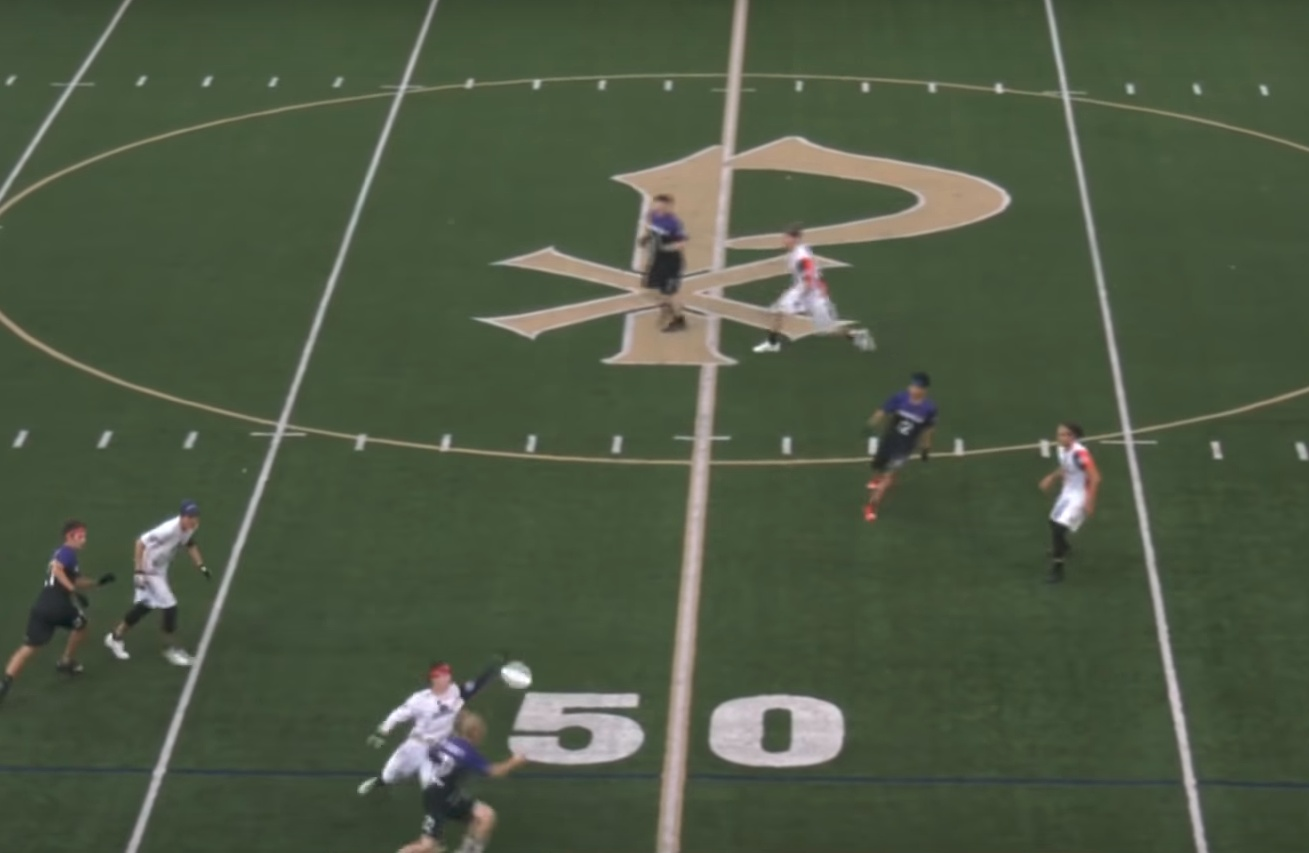frisbee: (501, 660, 532, 689)
